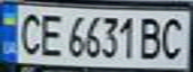1: (115, 13, 139, 60)
3: (100, 13, 121, 60)
6: (63, 12, 87, 59), (81, 12, 103, 60)
B: (136, 14, 166, 61)
C: (12, 9, 45, 56), (157, 15, 190, 61)
E: (36, 10, 66, 58)
